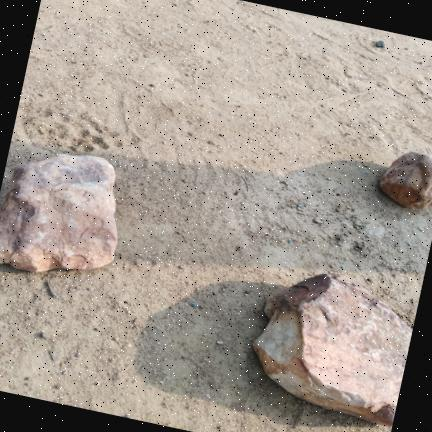Rocks: (254, 275, 411, 426), (0, 155, 117, 271), (380, 152, 431, 209), (376, 41, 384, 48)
